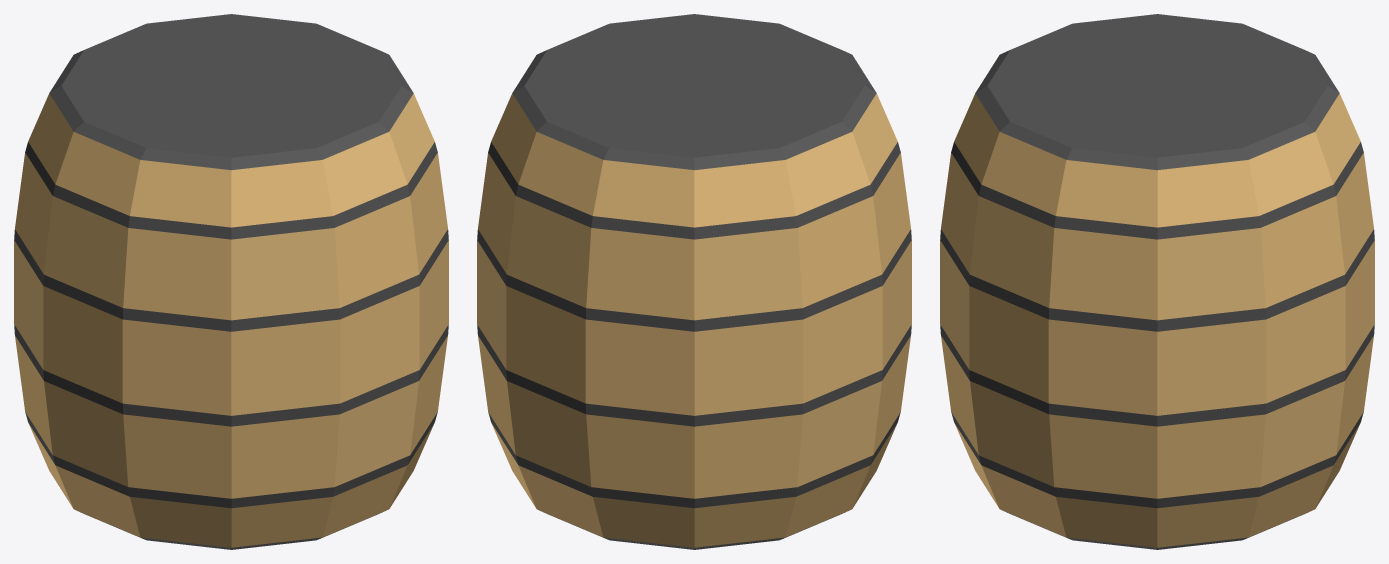
File: Tonneau.fbx
3 views of the same model, side by side, from view 1: azimuth 30°, elevation 25°; view 2: azimuth 150°, elevation 25°; view 3: azimuth 270°, elevation 25° (orthographic).
Visible parts, largest first — view 1: Cylinder; view 2: Cylinder; view 3: Cylinder.
Part boxes in pixels (x1,y1,x2,y2): Cylinder: (14, 14, 448, 549); Cylinder: (477, 14, 911, 549); Cylinder: (940, 14, 1374, 549).
Bounding box in the file's own units: 243 × 242 × 243.
